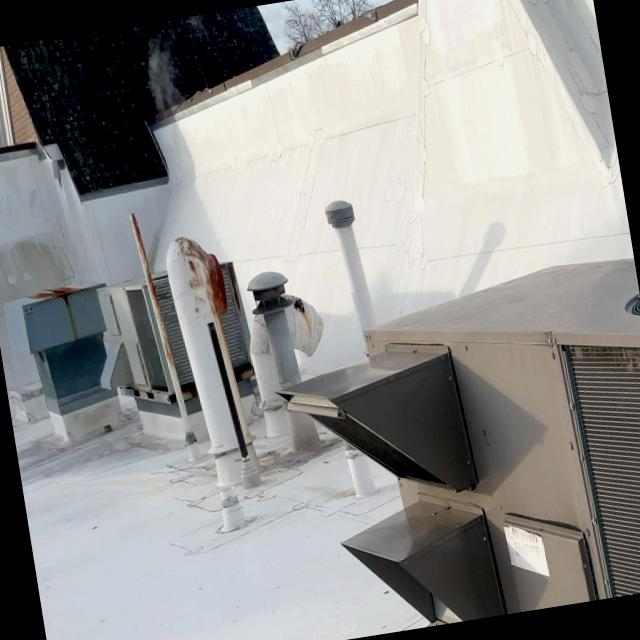GRAVITY-VENT: (155, 224, 274, 514), (8, 252, 128, 461), (243, 255, 341, 430), (321, 184, 388, 352)
RTU: (264, 254, 640, 640), (95, 238, 272, 444)
